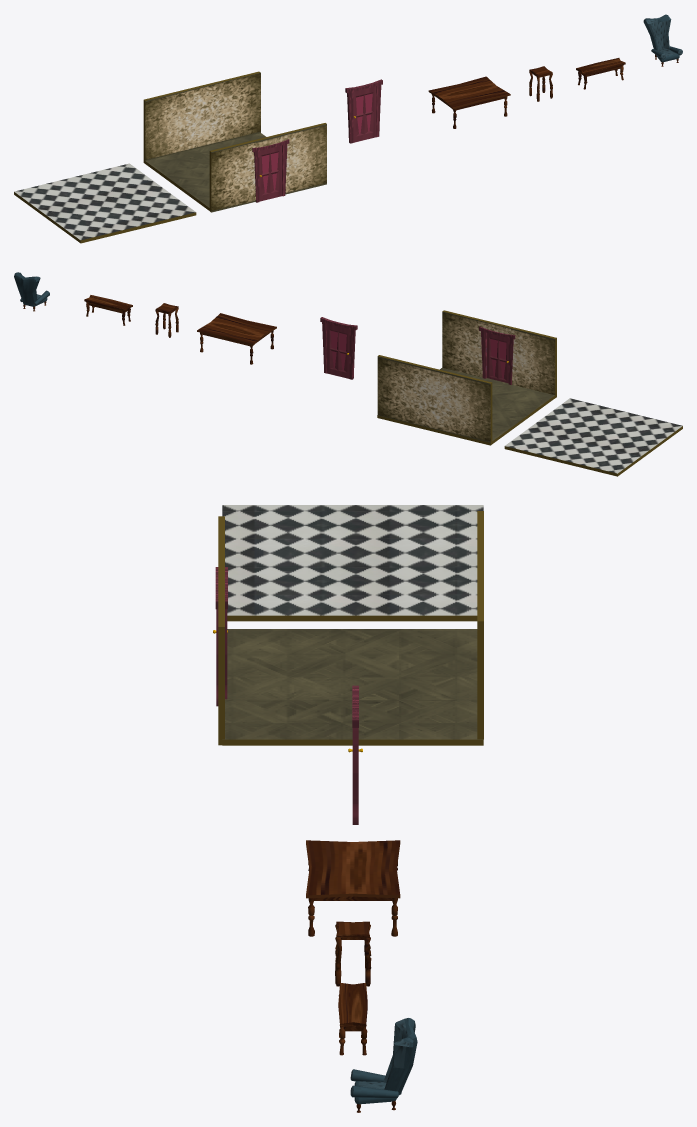
The model's file is Haunted_Set_1.fbx.
3 renders of one model, top to bottom at view 1: azimuth 30°, elevation 25°; view 2: azimuth 150°, elevation 25°; view 3: azimuth 270°, elevation 25°, orthographic. The views are drawn at different scales.
Visible parts, largest first — view 1: Floor.001, Wall1, Wall4.002, Floor, BigTable, Door.001, Door, Chair, Frame.001, Frame, Bench, LongTable; view 2: Floor.001, Wall1, Wall4.002, Floor, BigTable, Door.001, Door, Chair, Frame.001, Frame, Bench, LongTable; view 3: Floor.001, Floor, BigTable, Chair, Bench, Wall1, Wall4.002, LongTable, Frame.001.
Part boxes in pixels (x1=…): Floor.001: x1=14, y1=163, x2=196, y2=243; Wall1: x1=143, y1=71, x2=260, y2=160; Wall4.002: x1=209, y1=123, x2=326, y2=212; Floor: x1=143, y1=133, x2=265, y2=210; BigTable: x1=428, y1=76, x2=510, y2=128; Door.001: x1=353, y1=86, x2=376, y2=142; Door: x1=259, y1=145, x2=281, y2=201; Chair: x1=643, y1=14, x2=682, y2=66; Frame.001: x1=345, y1=79, x2=382, y2=143; Frame: x1=252, y1=139, x2=289, y2=202; Bench: x1=576, y1=58, x2=625, y2=89; LongTable: x1=529, y1=66, x2=552, y2=101; Floor.001: x1=504, y1=398, x2=682, y2=476; Wall1: x1=377, y1=355, x2=492, y2=442; Wall4.002: x1=442, y1=310, x2=556, y2=397; Floor: x1=377, y1=367, x2=555, y2=445; BigTable: x1=197, y1=313, x2=276, y2=364; Door.001: x1=327, y1=323, x2=349, y2=378; Door: x1=487, y1=333, x2=508, y2=383; Chair: x1=14, y1=272, x2=49, y2=311; Frame.001: x1=320, y1=317, x2=357, y2=379; Frame: x1=479, y1=326, x2=515, y2=384; Bench: x1=84, y1=295, x2=132, y2=325; LongTable: x1=155, y1=303, x2=178, y2=337; Floor.001: x1=222, y1=505, x2=483, y2=621; Floor: x1=222, y1=629, x2=483, y2=745; BigTable: x1=306, y1=840, x2=400, y2=936; Chair: x1=350, y1=1018, x2=417, y2=1112; Bench: x1=338, y1=982, x2=367, y2=1055; Wall1: x1=477, y1=511, x2=483, y2=739; Wall4.002: x1=218, y1=516, x2=224, y2=745; LongTable: x1=335, y1=921, x2=371, y2=986; Frame.001: x1=352, y1=685, x2=358, y2=824.
Size of the model in its own units: 22 by 2.12 by 4.15.
